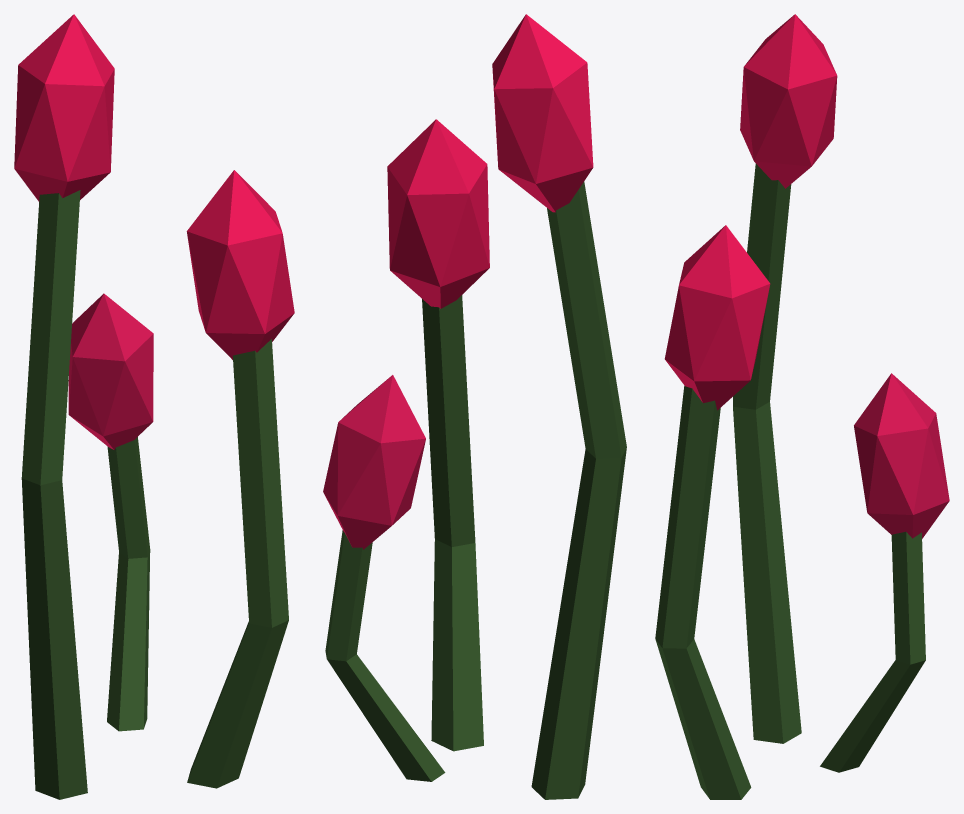
The model's file is Plant_03.fbx.
3 views of the same model, side by side, from view 1: azimuth 30°, elevation 25°; view 2: azimuth 150°, elevation 25°; view 3: azimuth 270°, elevation 25° (orthographic). The views are drawn at different scales.
Visible parts, largest first — view 1: Plant_03; view 2: Plant_03; view 3: Plant_03.
Part boxes in pixels (x1,y1,x2,y2): Plant_03: (14,14,294,799); Plant_03: (323,14,626,799); Plant_03: (655,14,949,799).
Bounding box in the file's own units: 26.09 × 78.56 × 28.74.
